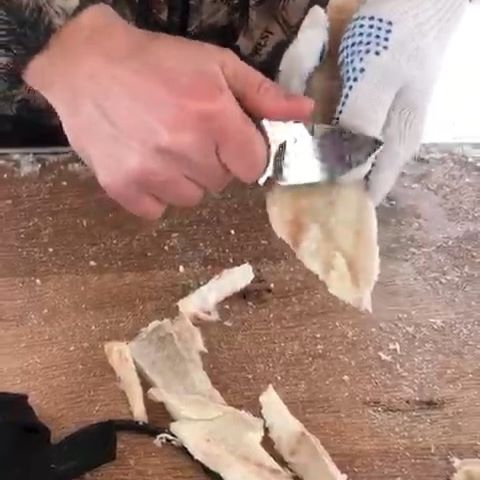knife: (246, 117, 384, 185)
